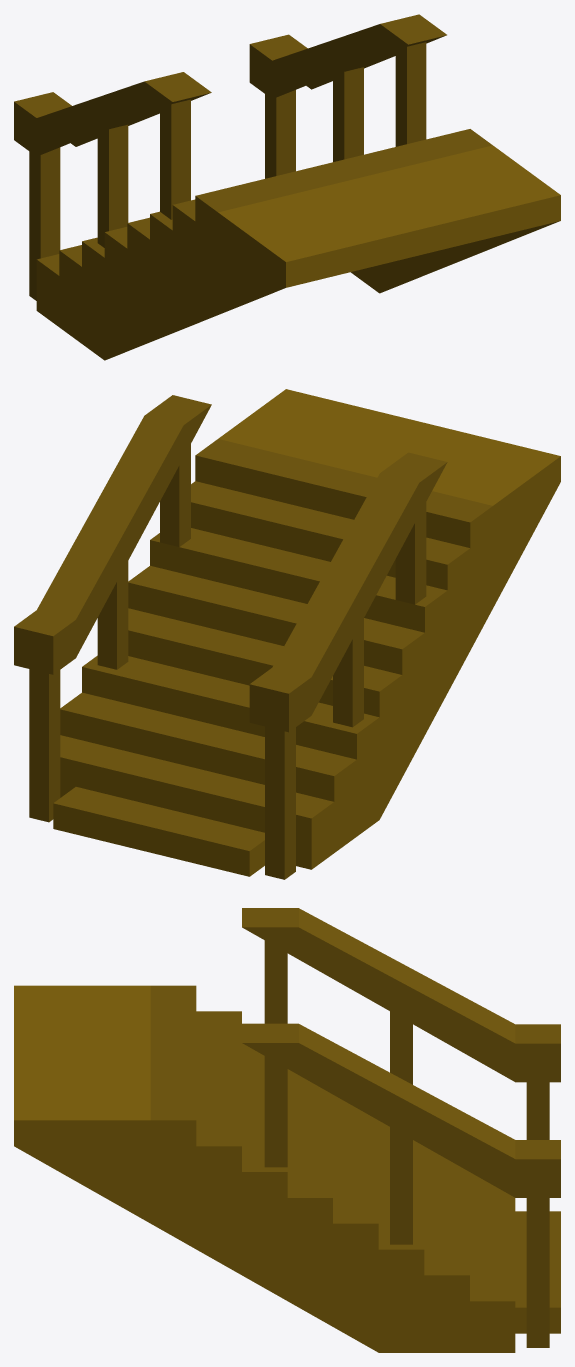
The model's file is obj_staircase_4_0.obj.
The picture shows the model from 3 angles, top to bottom: view 1: azimuth 30°, elevation 25°; view 2: azimuth 150°, elevation 25°; view 3: azimuth 270°, elevation 25°; orthographic projection.
Size of the model in its own units: 1.75 by 1.88 by 3.
